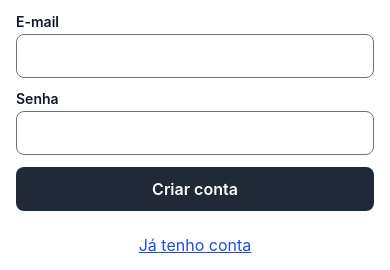
it: C08: shows the ActivityIndicator while creating the account
In the field with test id "signup.email": (195, 56) [16,34,374,78], type "ana@exemplo.com"
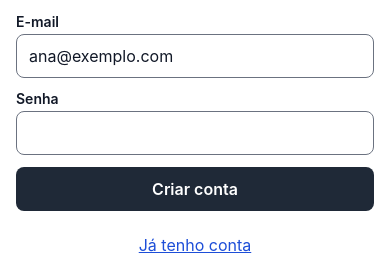
In the password field with test id "signup.password": (195, 133) [16,111,374,155], type "segredo123"
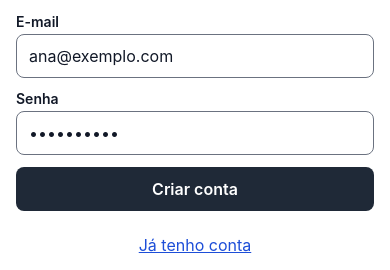
Click the button with test id "signup.submit": (195, 189) [16,167,374,211]
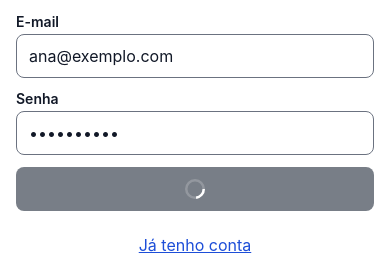
expect the progress indicator with test id "loading" is shown: met, box [185,179,205,199]
